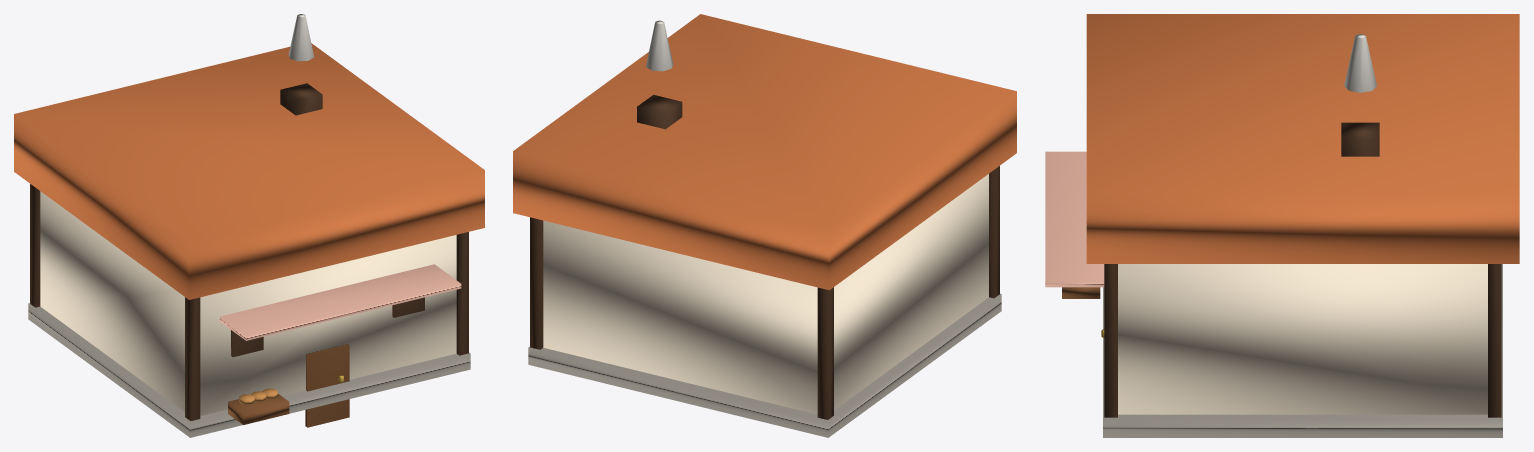
File: bakery.glb
3 views of the same model, side by side, from view 1: azimuth 30°, elevation 25°; view 2: azimuth 150°, elevation 25°; view 3: azimuth 270°, elevation 25° (orthographic). The views are drawn at different scales.
Parts seen in each view (by area): view 1: roof, walls, foundation, oven_front, corners, door, oven_door, chimney, smoke, window_left, window_right; view 2: roof, walls, foundation, corners, chimney, smoke; view 3: roof, walls, foundation, oven_front, corners, chimney, smoke, oven_door.
Boxes of the visible parts, x1=… form: roof: x1=14, y1=43, x2=484, y2=299; walls: x1=40, y1=191, x2=456, y2=415; foundation: x1=28, y1=303, x2=470, y2=437; oven_front: x1=219, y1=264, x2=461, y2=340; corners: x1=30, y1=184, x2=468, y2=420; door: x1=305, y1=344, x2=349, y2=427; oven_door: x1=228, y1=394, x2=289, y2=424; chimney: x1=280, y1=83, x2=322, y2=115; smoke: x1=288, y1=14, x2=314, y2=61; window_left: x1=231, y1=330, x2=263, y2=357; window_right: x1=392, y1=297, x2=424, y2=317; roof: x1=513, y1=14, x2=1016, y2=290; walls: x1=543, y1=174, x2=988, y2=414; foundation: x1=528, y1=293, x2=1001, y2=437; corners: x1=530, y1=166, x2=999, y2=419; chimney: x1=637, y1=94, x2=682, y2=129; smoke: x1=646, y1=20, x2=672, y2=71; roof: x1=1086, y1=14, x2=1519, y2=263; walls: x1=1118, y1=264, x2=1487, y2=414; foundation: x1=1103, y1=264, x2=1502, y2=437; oven_front: x1=1045, y1=151, x2=1104, y2=287; corners: x1=1104, y1=264, x2=1501, y2=417; chimney: x1=1341, y1=122, x2=1379, y2=156; smoke: x1=1344, y1=34, x2=1376, y2=92; oven_door: x1=1062, y1=287, x2=1100, y2=298.
Size of the model in its own units: 7.7 by 7.8 by 8.65.
